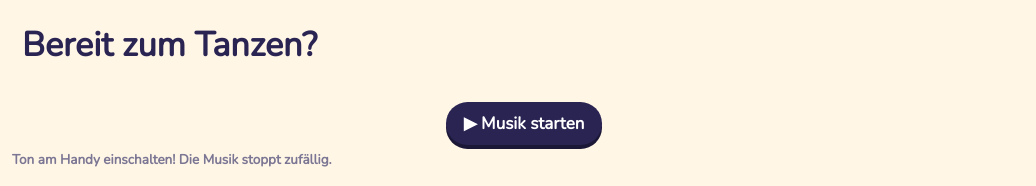
Scenario: dance › Musik starten spielt Töne, Stopp beendet sie
Expected: the text "Bereit zum Tanzen?" is shown, [12,0,1035,92]
Expected: the text "Ton am Handy einschalten! Die Musik stoppt zufällig." is shown, [12,150,332,169]
Click the button "▶ Musik starten".
click(524, 124)  # box [446,102,602,145]
Wait 230 ms
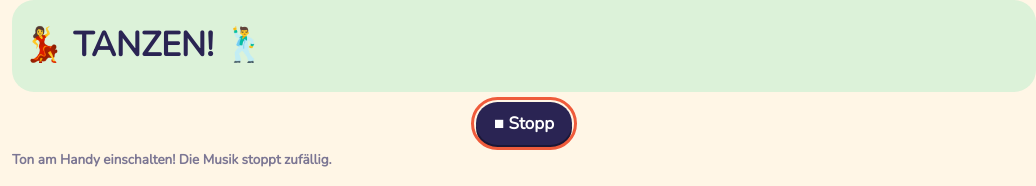
Expected: the button "■ Stopp" is shown
Expected: the text "💃 TANZEN! 🕺" is shown, [12,0,1035,92]
Click the button "■ Stopp".
click(524, 124)  # box [476,102,572,145]
Wait 2000 ms
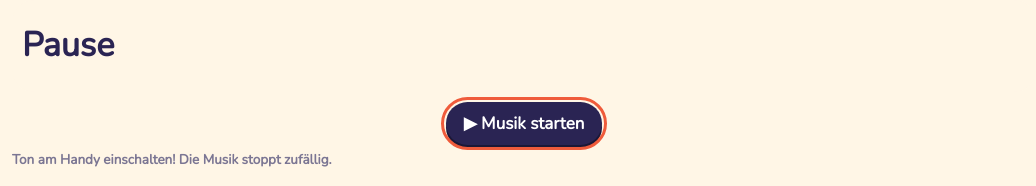
Expected: the button "▶ Musik starten" is shown, [446,102,602,145]
Expected: the text "Pause" is shown, [12,0,1035,92]
